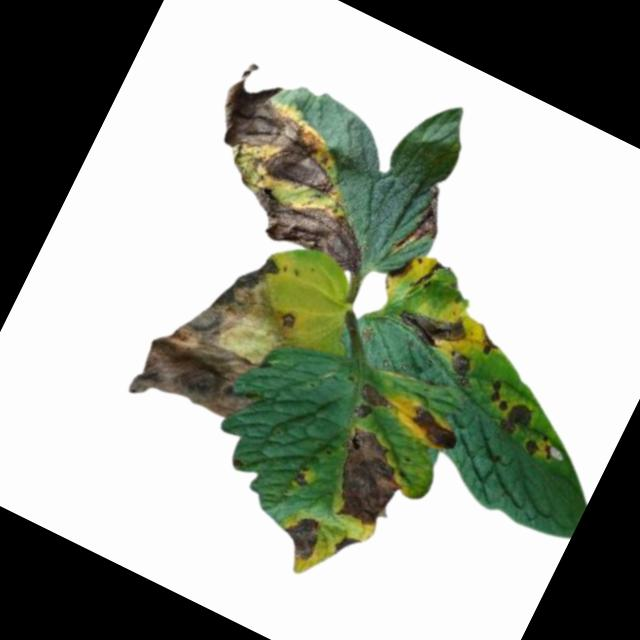Early_blight: (125, 224, 321, 448), (202, 58, 385, 213), (222, 166, 379, 280), (313, 419, 421, 536), (390, 292, 471, 362), (391, 178, 456, 263), (396, 398, 469, 459), (276, 504, 329, 563), (348, 381, 395, 430), (499, 398, 539, 439), (520, 427, 560, 465), (469, 327, 506, 363), (445, 352, 483, 387), (330, 528, 363, 562), (484, 379, 518, 412), (386, 255, 416, 286), (293, 460, 317, 489)
